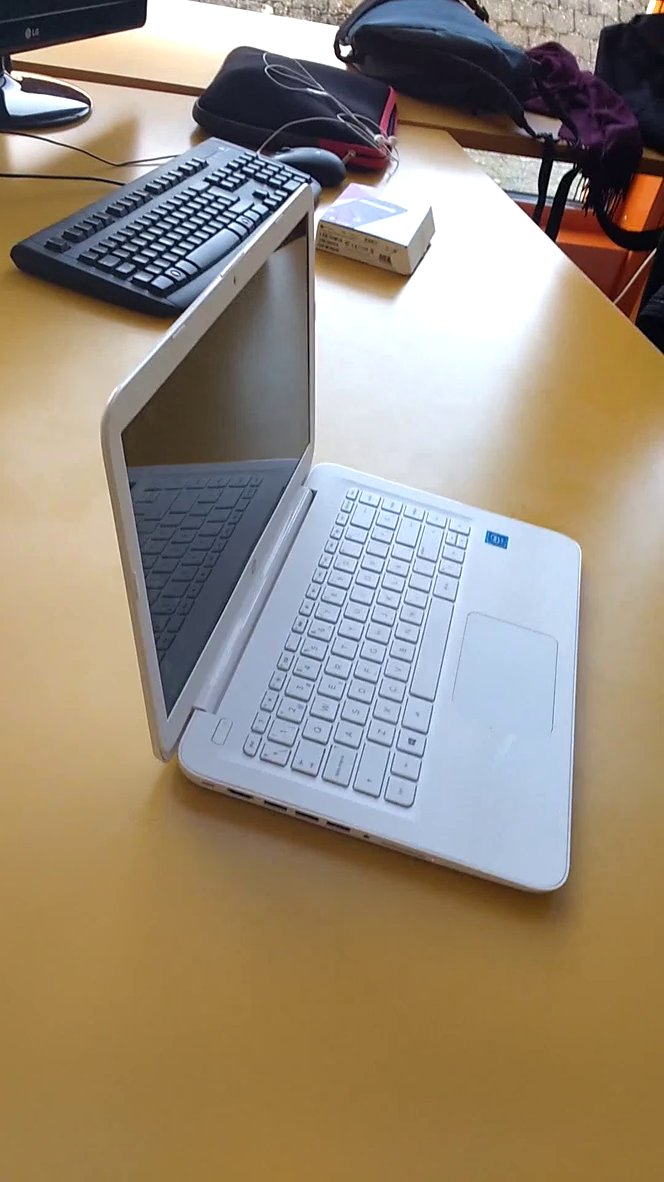bag: (319, 1, 562, 146)
laptop: (92, 173, 601, 913)
